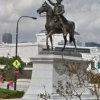Statue: (33, 1, 82, 50)
